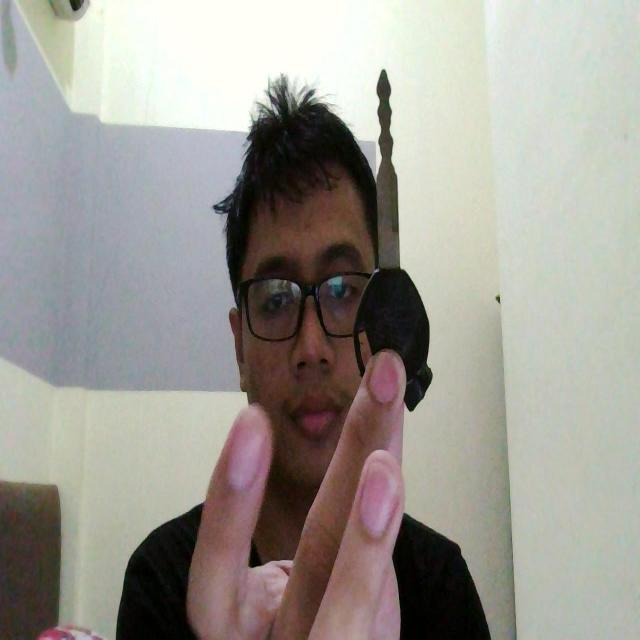kunci_motor: (352, 55, 437, 426)
